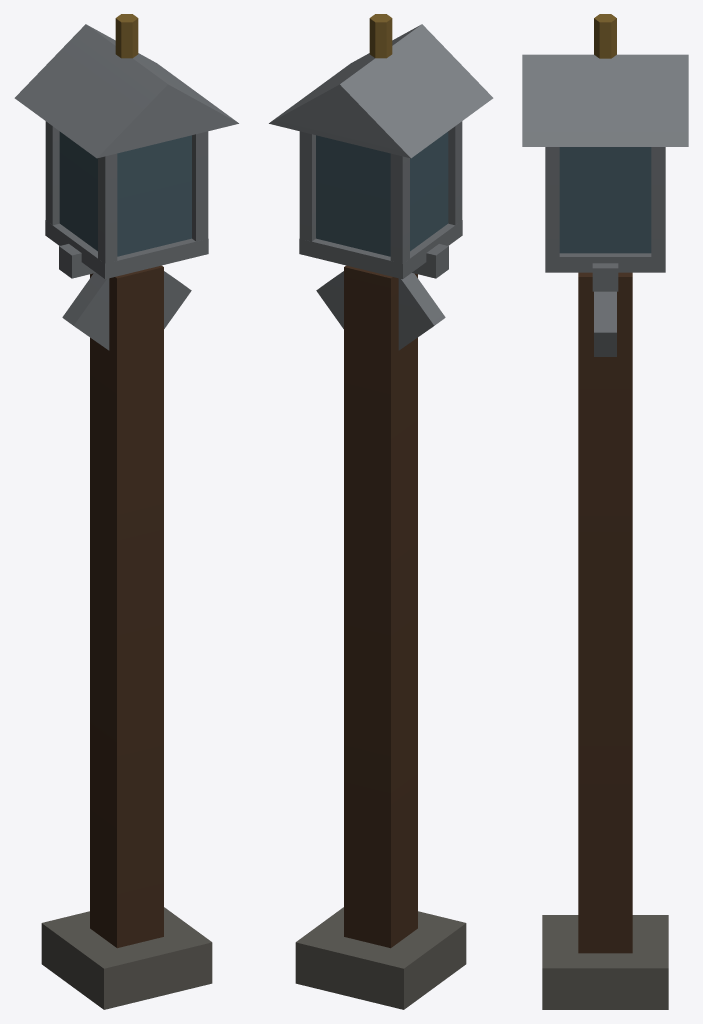
Rendered from lamp_post.glb.
3 renders of one model, left to right at view 1: azimuth 30°, elevation 25°; view 2: azimuth 150°, elevation 25°; view 3: azimuth 270°, elevation 25°, orthographic.
Parts seen in each view (by area): view 1: prop; view 2: prop; view 3: prop.
Part boxes in pixels (x1,y1,x2,y2): prop: (14,14,238,1009); prop: (269,14,493,1009); prop: (522,14,688,1009).
Size of the model in its own units: 0.58 by 3.71 by 0.58.
